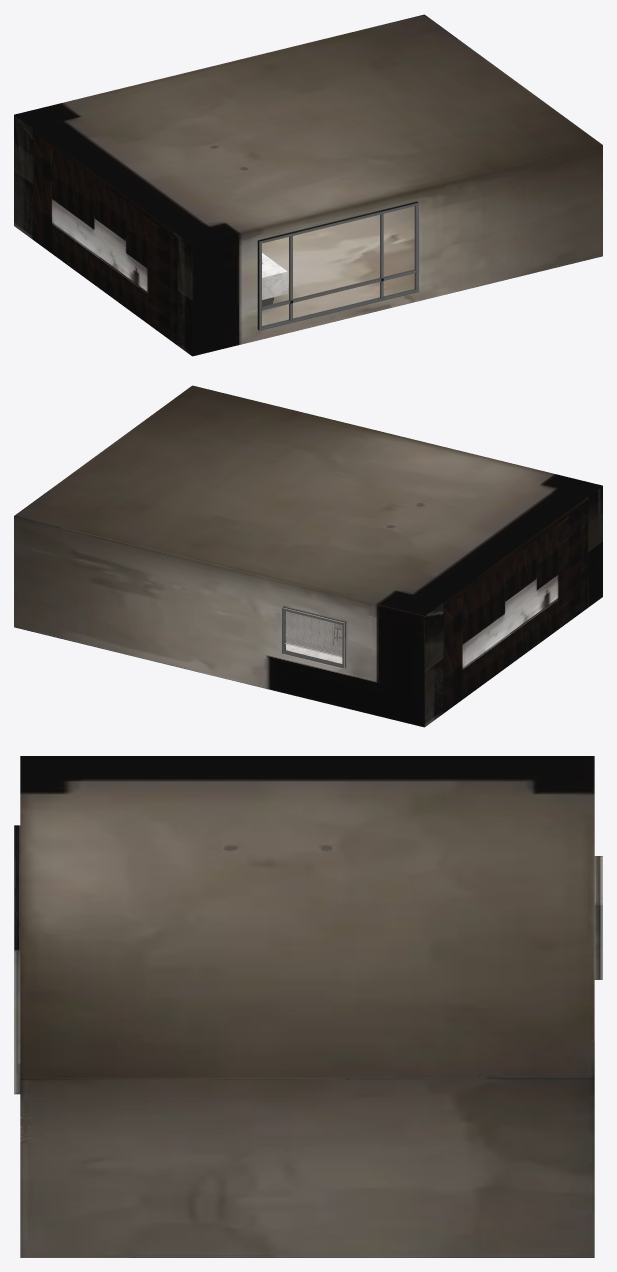
File: kitchen-island-lite.glb
The picture shows the model from 3 angles, top to bottom: view 1: azimuth 30°, elevation 25°; view 2: azimuth 150°, elevation 25°; view 3: azimuth 270°, elevation 25°; orthographic projection. The views are drawn at different scales.
Visible parts, largest first — view 1: house_house2_0, wood_wood_0, frame_frame_0, table_table_0; view 2: house_house2_0, wood_wood_0, curtain_curtain2_0, frame_frame_0, table_table_0; view 3: house_house2_0.
Part boxes in pixels (bbox=[...]): house_house2_0: bbox=[14, 14, 602, 356]; wood_wood_0: bbox=[33, 129, 177, 344]; frame_frame_0: bbox=[258, 202, 418, 330]; table_table_0: bbox=[52, 222, 287, 299]; house_house2_0: bbox=[14, 385, 602, 727]; wood_wood_0: bbox=[444, 525, 557, 703]; curtain_curtain2_0: bbox=[285, 611, 342, 656]; frame_frame_0: bbox=[282, 608, 344, 668]; table_table_0: bbox=[286, 599, 557, 669]; house_house2_0: bbox=[14, 756, 602, 1257].
Bounding box in the file's own units: 11.59 × 3 × 8.94.
29 materials, 29 textured.
